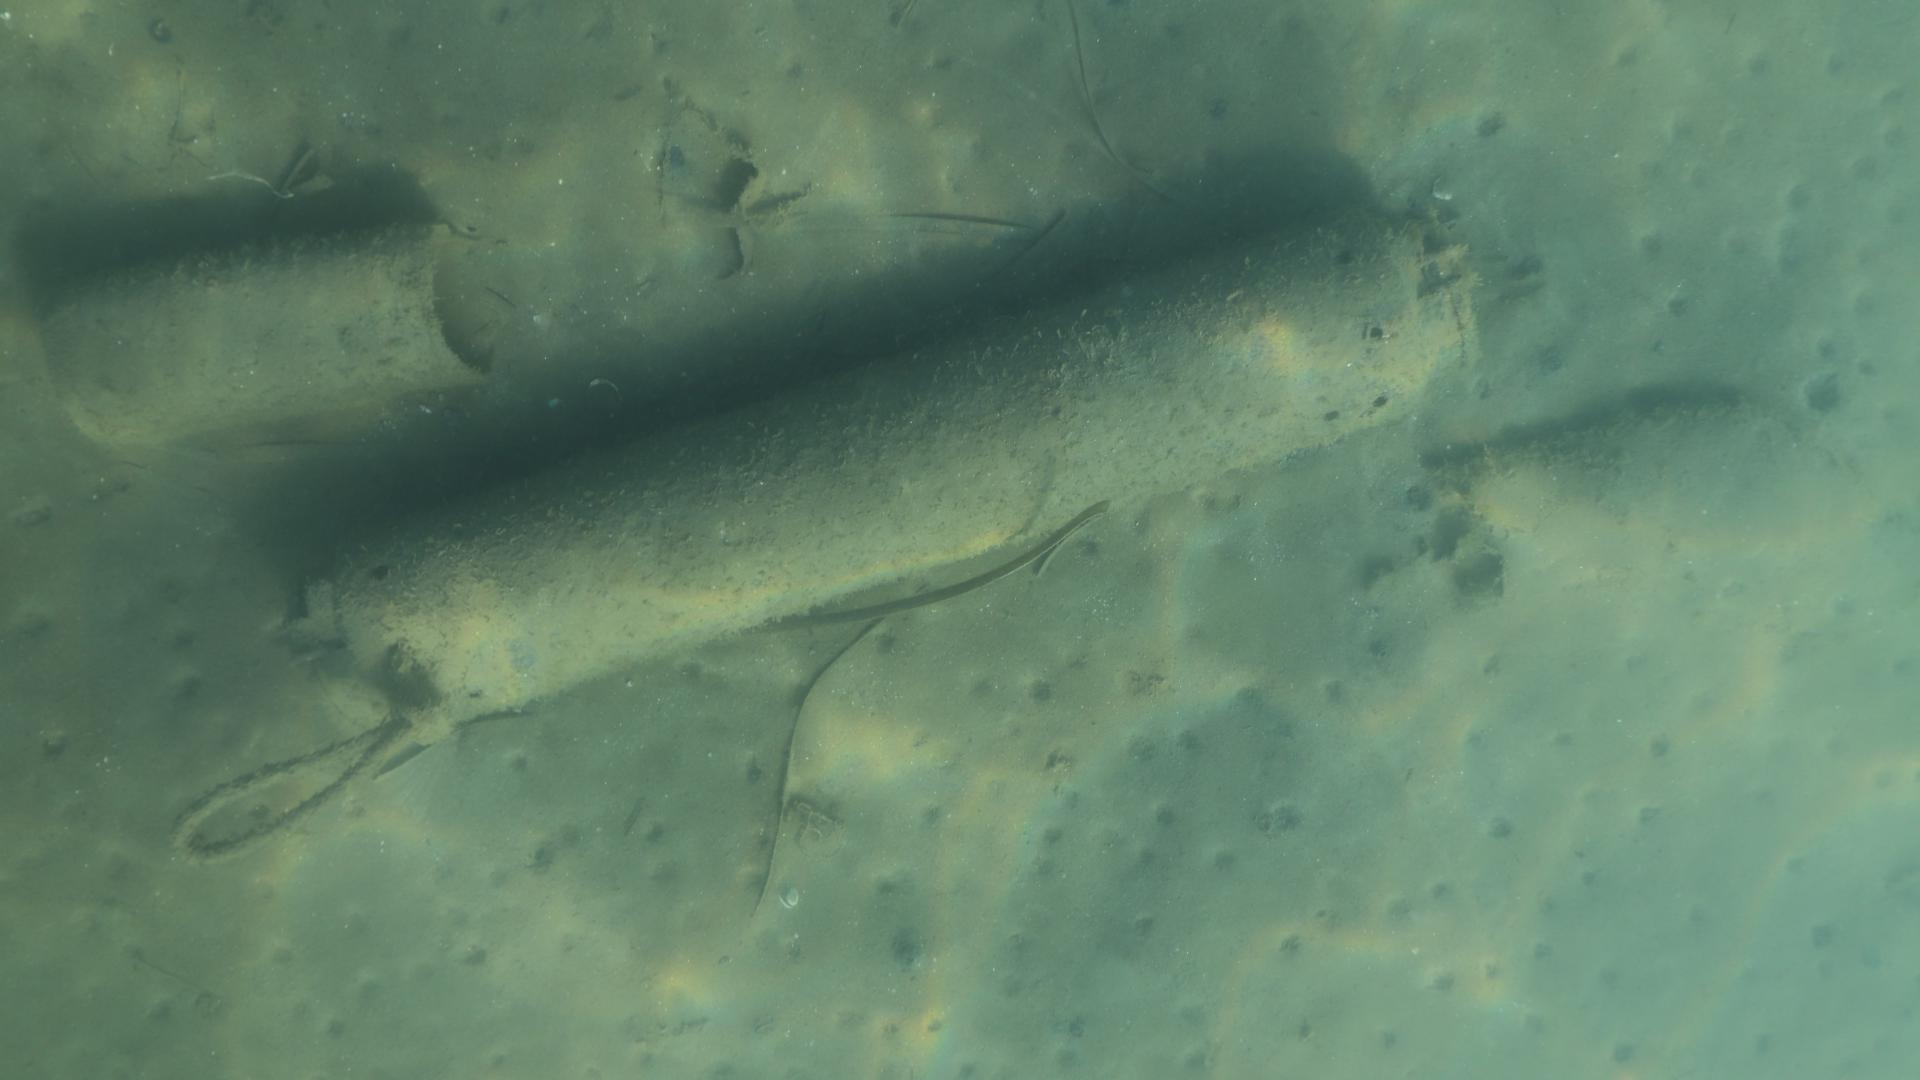eel fish trap: (274, 204, 1470, 735)
rope: (166, 705, 442, 868)
